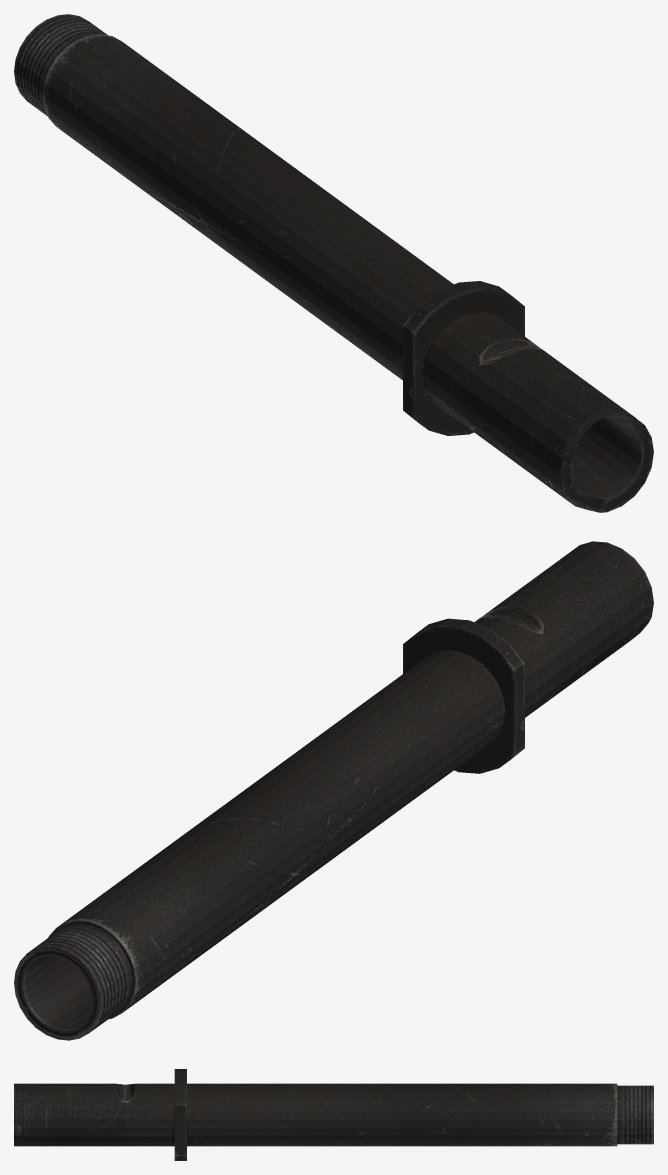
The picture shows the model from 3 angles, top to bottom: view 1: azimuth 30°, elevation 25°; view 2: azimuth 150°, elevation 25°; view 3: azimuth 270°, elevation 25°; orthographic projection. The views are drawn at different scales.
Visible parts, largest first — view 1: TW_5fb653962b1b027b1f50bd03_PZ_Import; view 2: TW_5fb653962b1b027b1f50bd03_PZ_Import; view 3: TW_5fb653962b1b027b1f50bd03_PZ_Import.
Part boxes in pixels (x1,y1,x2,y2): TW_5fb653962b1b027b1f50bd03_PZ_Import: (14, 14, 653, 512); TW_5fb653962b1b027b1f50bd03_PZ_Import: (14, 541, 653, 1040); TW_5fb653962b1b027b1f50bd03_PZ_Import: (14, 1069, 653, 1160).
Bounding box in the file's own units: 0.0111 × 0.095 × 0.0138.
1 material, 1 textured.
